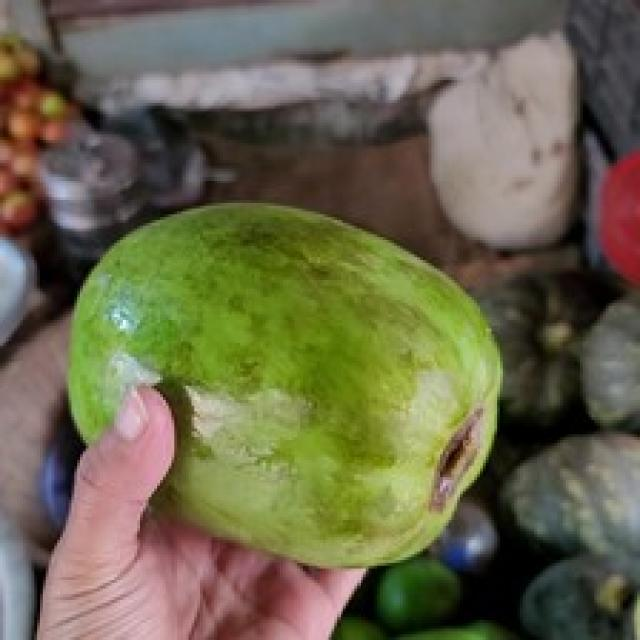Pepaya unrippen: (41, 166, 519, 588)
